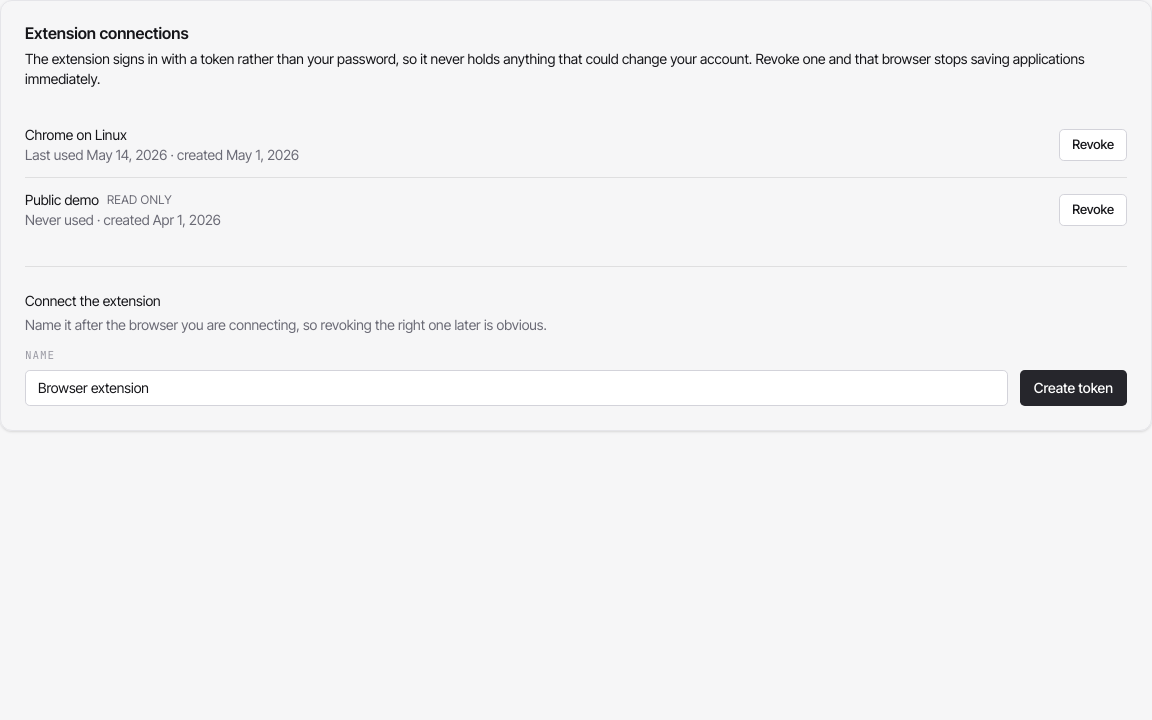
Test: TokensCard › shows the token once, with the backend's own warning
The image size is (1152, 720).
Click the button "Create token". click: (1073, 388)
box: [1020,370,1127,406]
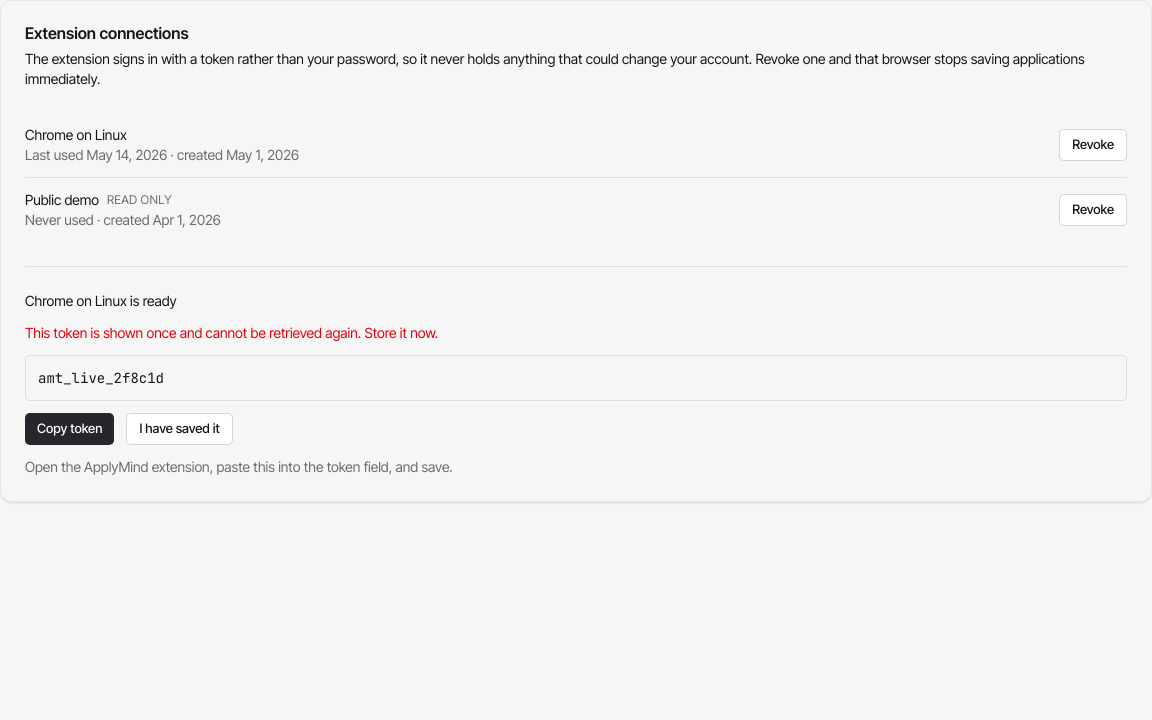
Result: the text "amt_live_2f8c1d" is shown at [25,355,1127,401]
Result: the message shows "shown once" at [25,324,438,341]
Result: the button "Create token" is gone
